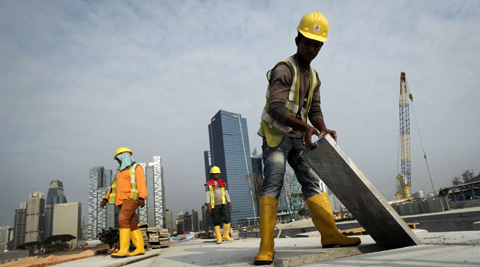SAFE: (276, 8, 331, 133), (111, 145, 144, 204), (206, 165, 228, 208)
